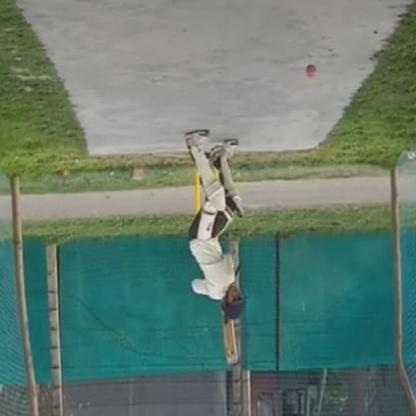ball: (304, 60, 320, 88)
